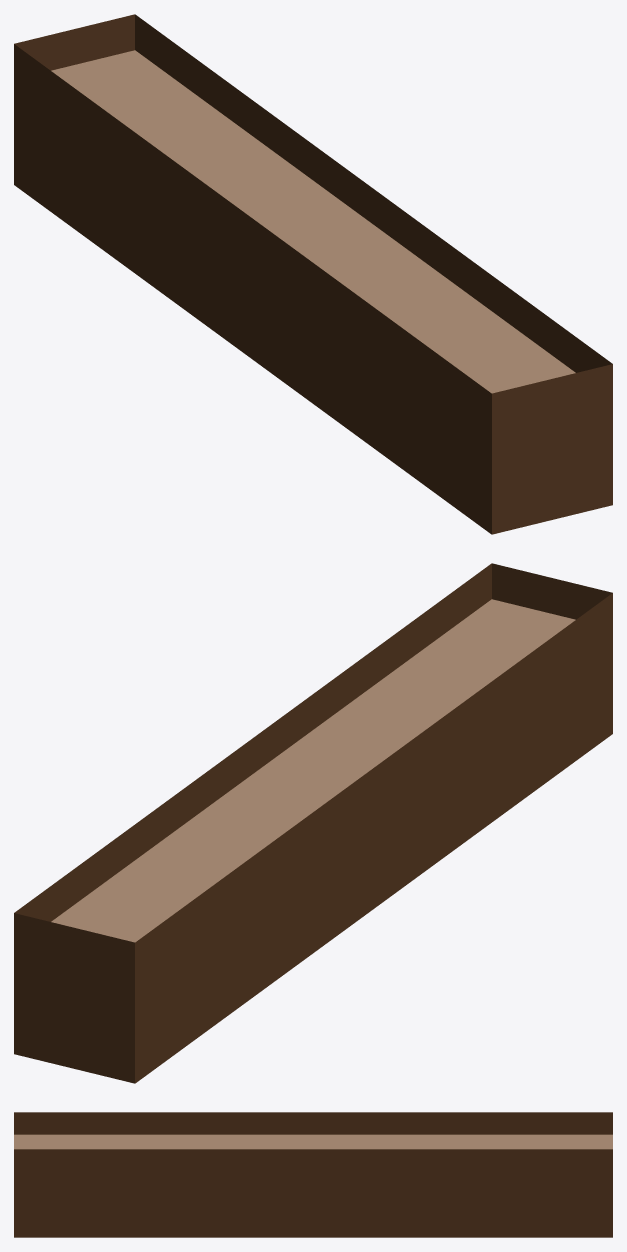
File: tomatenbaklos.fbx
The picture shows the model from 3 angles, top to bottom: view 1: azimuth 30°, elevation 25°; view 2: azimuth 150°, elevation 25°; view 3: azimuth 270°, elevation 25°; orthographic projection. The views are drawn at different scales.
Parts seen in each view (by area): view 1: Cube.004, Cube.001, Cube.002; view 2: Cube.004, Cube.001, Cube.002; view 3: Cube.004, Cube.001, Cube.002.
Boxes of the visible parts, <box> form: Cube.004: <box>14,15,612,534</box>; Cube.001: <box>14,14,612,533</box>; Cube.002: <box>51,50,575,393</box>; Cube.004: <box>14,564,612,1083</box>; Cube.001: <box>14,563,612,1082</box>; Cube.002: <box>51,599,575,942</box>; Cube.004: <box>14,1112,612,1237</box>; Cube.001: <box>14,1112,612,1213</box>; Cube.002: <box>14,1134,612,1149</box>.
Bounding box in the file's own units: 69.92 × 77.83 × 478.
